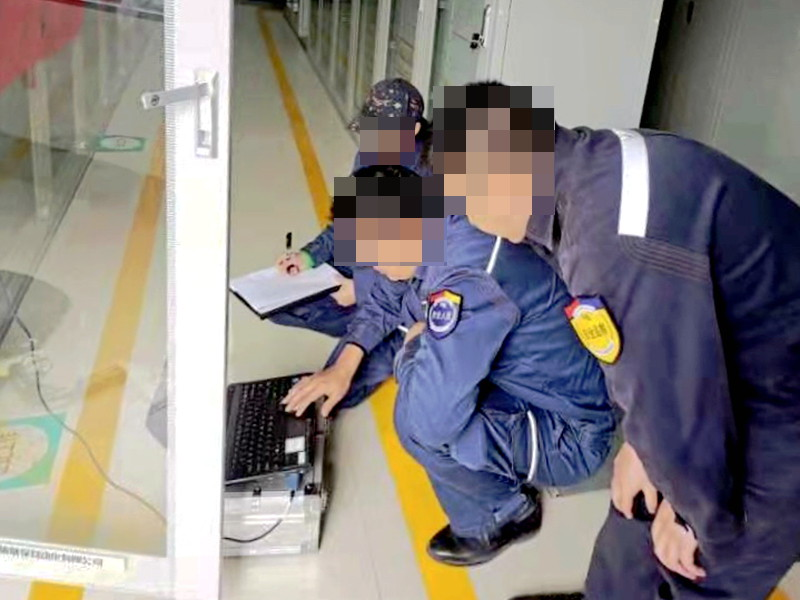downsuit: (388, 409, 615, 539)
hand: (651, 497, 707, 582), (611, 441, 657, 522), (280, 371, 348, 418), (276, 249, 314, 280), (327, 277, 353, 307)
noear: (476, 157, 533, 218), (386, 217, 423, 263)
person: (279, 75, 800, 600)
sleeve: (563, 294, 624, 365), (425, 287, 465, 339)
unhalt: (424, 79, 558, 244), (327, 159, 444, 284), (346, 76, 425, 156)
upsuit: (519, 122, 800, 519), (343, 214, 618, 424)
wrongtop: (279, 309, 378, 420)
